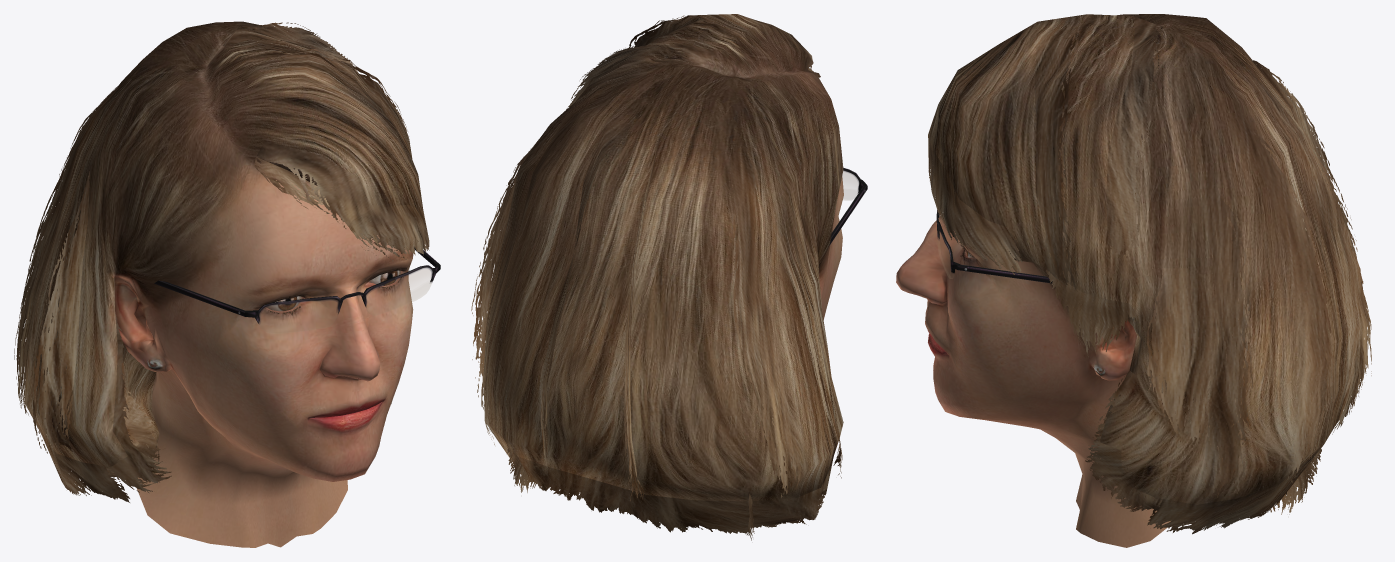
File: interviewer-female.glb
3 renders of one model, left to right at view 1: azimuth 30°, elevation 25°; view 2: azimuth 150°, elevation 25°; view 3: azimuth 270°, elevation 25°, orthographic. The views are drawn at different scales.
Parts seen in each view (by area): view 1: Face; view 2: Face; view 3: Face.
Boxes of the visible parts, x1=… form: Face: x1=14, y1=21, x2=440, y2=547; Face: x1=471, y1=14, x2=867, y2=540; Face: x1=896, y1=14, x2=1371, y2=547.
Bounding box in the file's own units: 0.2254 × 0.2945 × 0.2586.
Materials: 3 (3 with a texture image).
